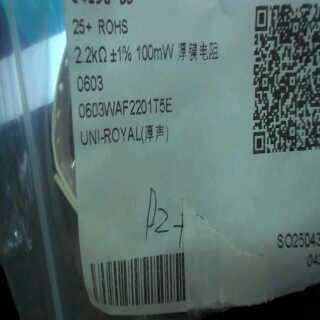2.2kR: (73, 43, 108, 67)
